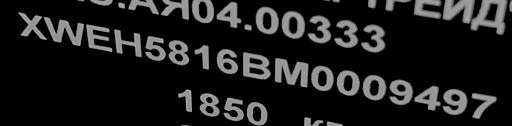letter: (42, 13, 84, 48), (273, 56, 309, 88), (112, 26, 144, 59), (238, 50, 272, 80), (16, 10, 48, 41), (413, 80, 443, 111), (84, 22, 114, 53), (469, 89, 499, 118), (334, 67, 362, 96), (360, 72, 388, 101), (441, 87, 469, 114), (310, 62, 334, 92), (387, 78, 413, 105), (142, 34, 166, 63), (166, 38, 190, 66), (216, 46, 240, 74), (193, 42, 211, 72)
